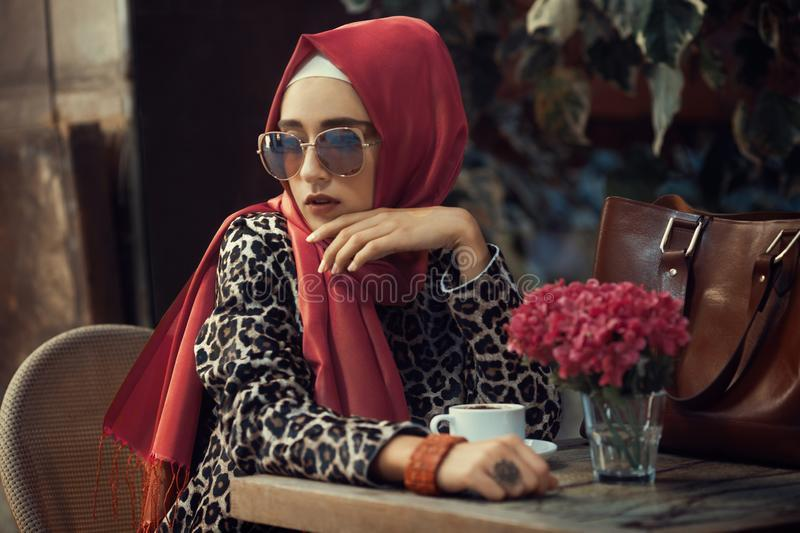No Mask: (248, 64, 461, 293)
